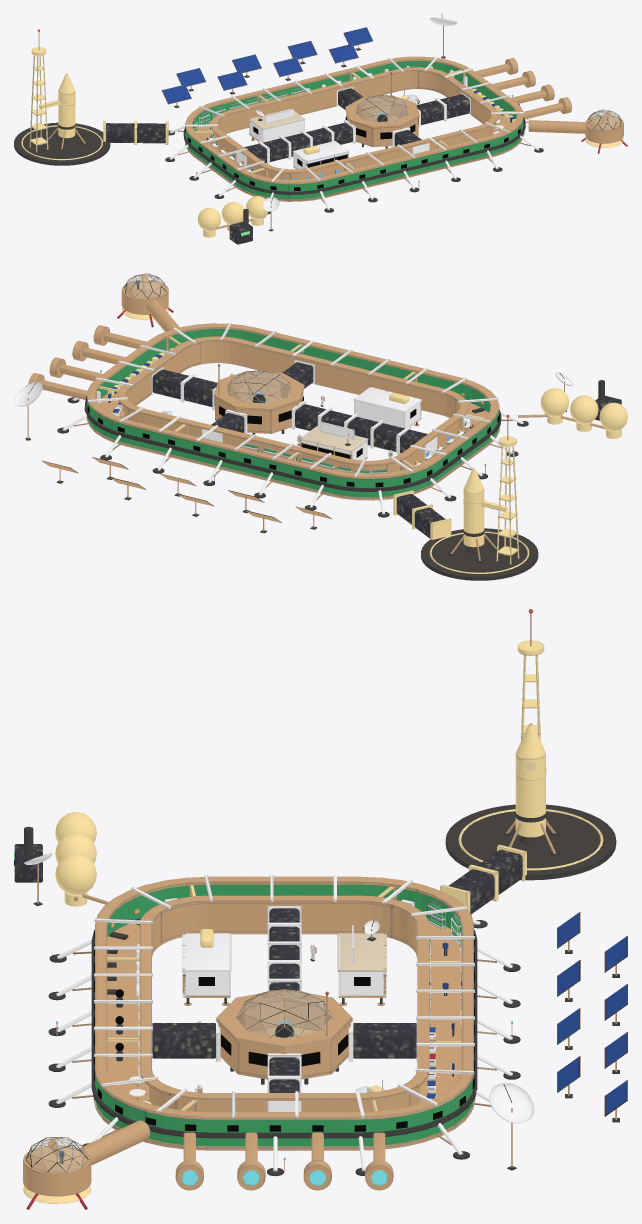
File: design_2.glb
3 renders of one model, top to bottom at view 1: azimuth 30°, elevation 25°; view 2: azimuth 150°, elevation 25°; view 3: azimuth 270°, elevation 25°, orthographic. The views are drawn at different scales.
Parts seen in each view (by area): view 1: 2_RICH_BAKED; view 2: 2_RICH_BAKED; view 3: 2_RICH_BAKED.
Boxes of the visible parts, x1,y1,x2,y2 form: 2_RICH_BAKED: (14,14,627,244); 2_RICH_BAKED: (14,273,627,580); 2_RICH_BAKED: (14,609,627,1209).
Size of the model in its own units: 101 by 25.2 by 64.79.
Materials: 2 (1 with a texture image).
